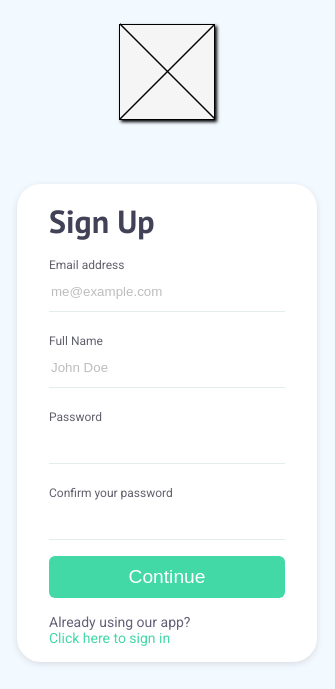
Test case: Test Sign Up page › Given user is on sign up page › When user interacts to full name field › And only provides name › Users sees 'Missing last name' error message
The image size is (335, 689).
Type "John" into the field labelled "Full Name". click: (167, 368)
box: [49,348,285,388]
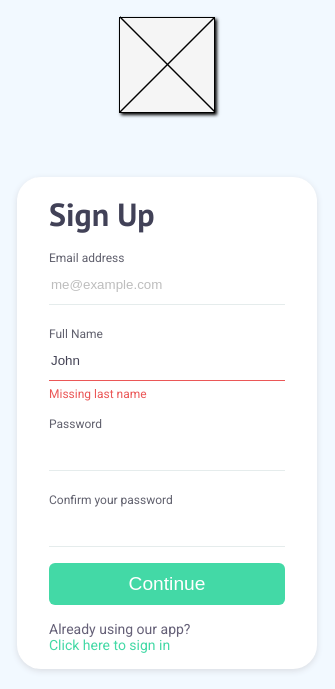
Now the text "Missing last name" is shown, box [49,387,147,401]
